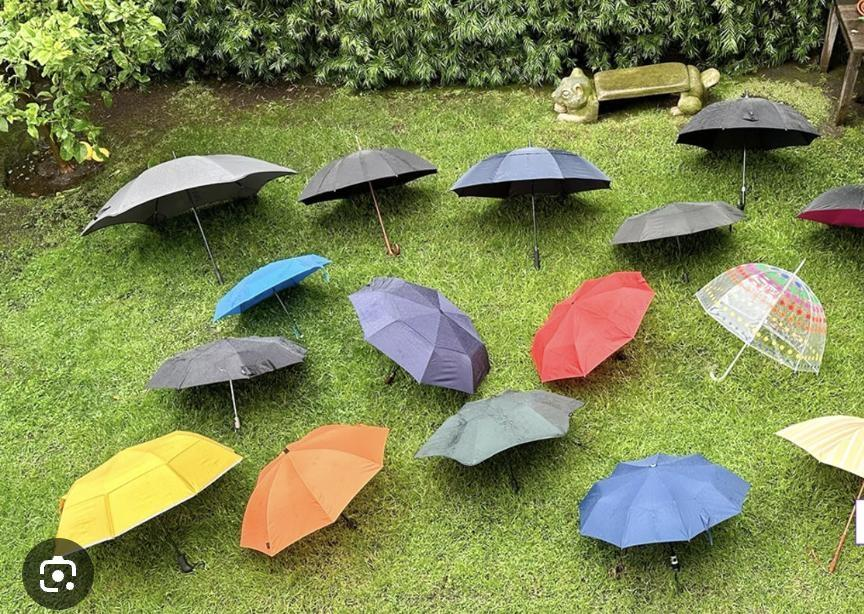Umbrella: (71, 148, 299, 257), (49, 430, 241, 541), (575, 449, 754, 559), (242, 424, 390, 556), (342, 274, 493, 393), (692, 259, 830, 384), (528, 268, 656, 381), (417, 392, 579, 471), (771, 409, 864, 518), (145, 335, 312, 395), (672, 92, 820, 156), (451, 144, 612, 202), (304, 147, 438, 215), (211, 254, 334, 320), (606, 200, 746, 248), (794, 177, 864, 227)
